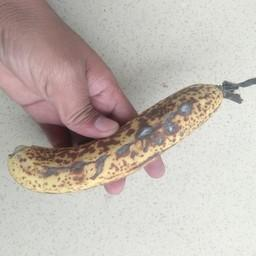Bad_banana: (1, 89, 212, 195)
